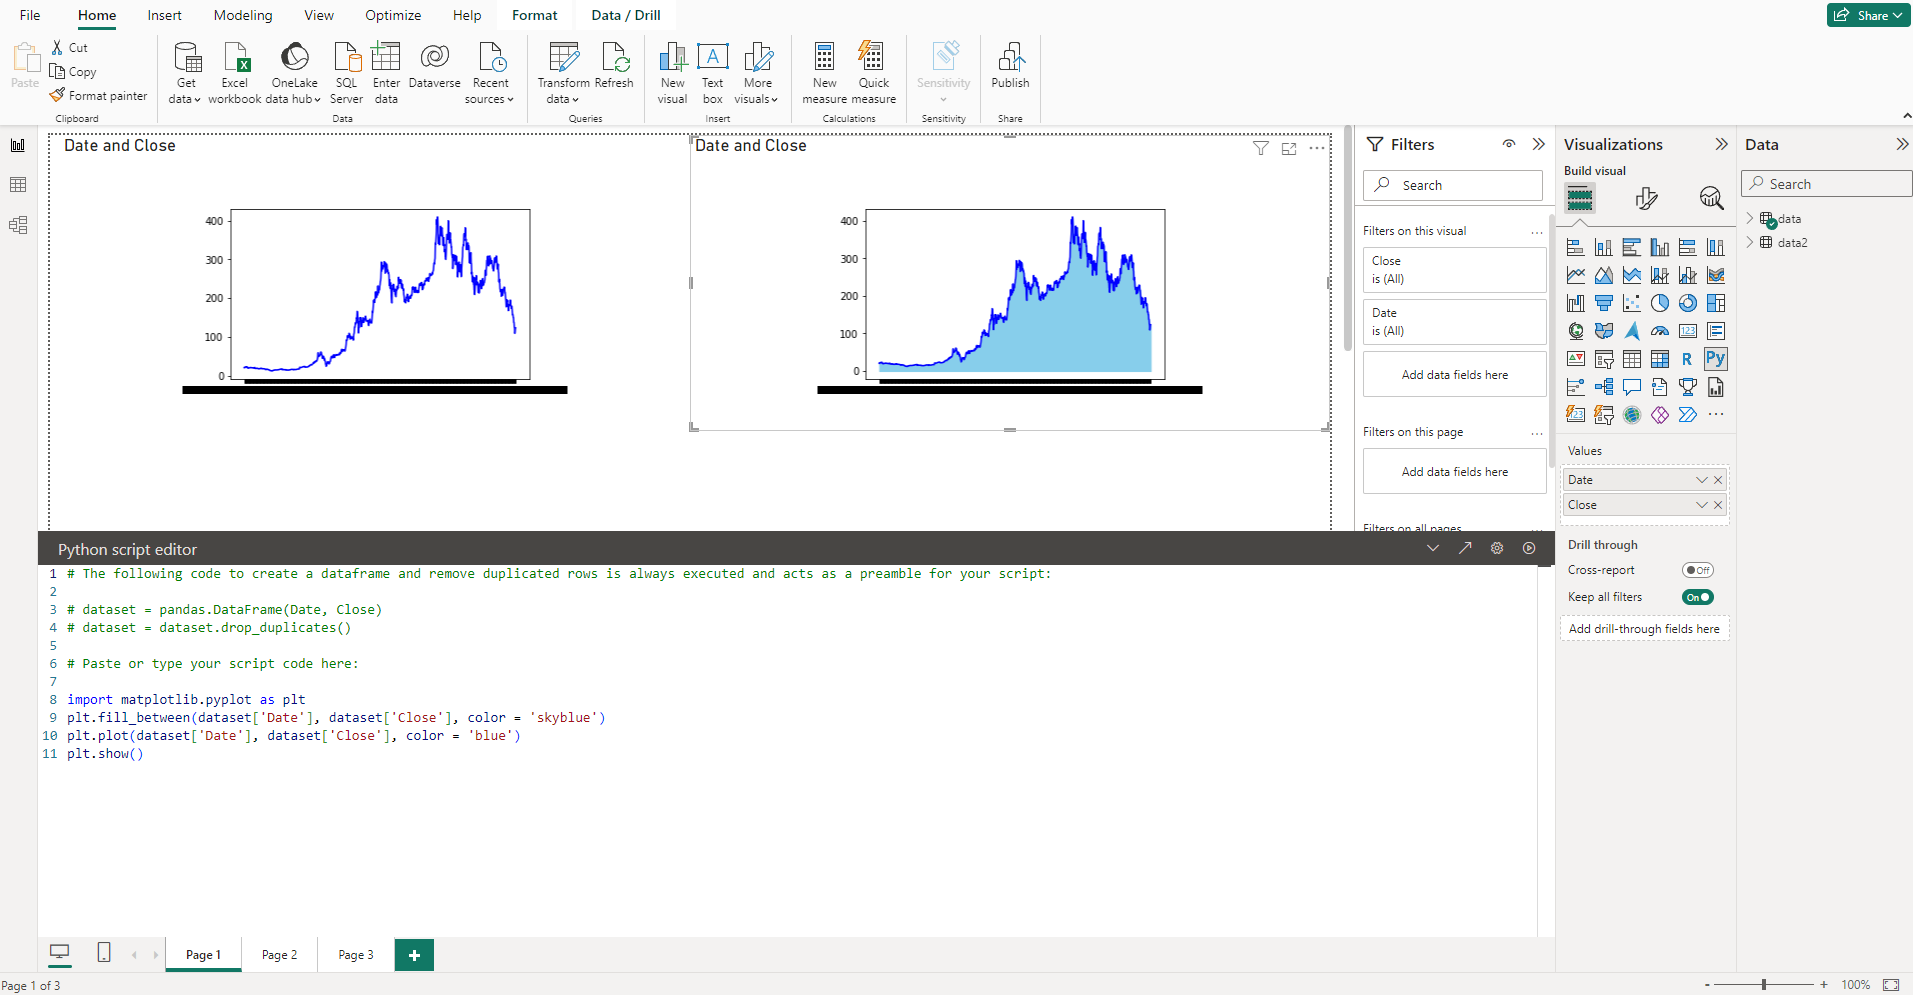

What the dashboard file says about the page in this screenshot:
{"tool":"powerbi","page":{"name":"Page 1","canvas":[1280,720],"ordinal":0},"visuals":[{"type":"pythonVisual","fields":{"Values":["data.Date","data.Close"]},"box":[9,0,631,296],"z":0},{"type":"pythonVisual","fields":{"Values":["data.Date","data.Close"]},"box":[640,0,640,296],"z":1000}]}

Visuals, with their boxes on the page's 1280x720 design canvas (x1, y1, x2, y2). These are canvas units, not pixel positions in the 1913x995 screenshot, which may show the page scaled, cropped or inside an application window:
pythonVisual - data.Date x data.Close: x1=9 y1=0 x2=640 y2=296
pythonVisual - data.Date x data.Close: x1=640 y1=0 x2=1280 y2=296
